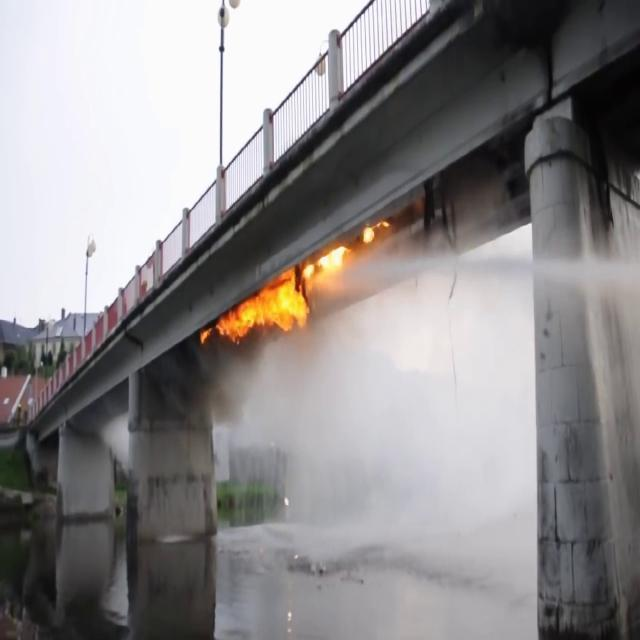Fire: (212, 240, 364, 343)
